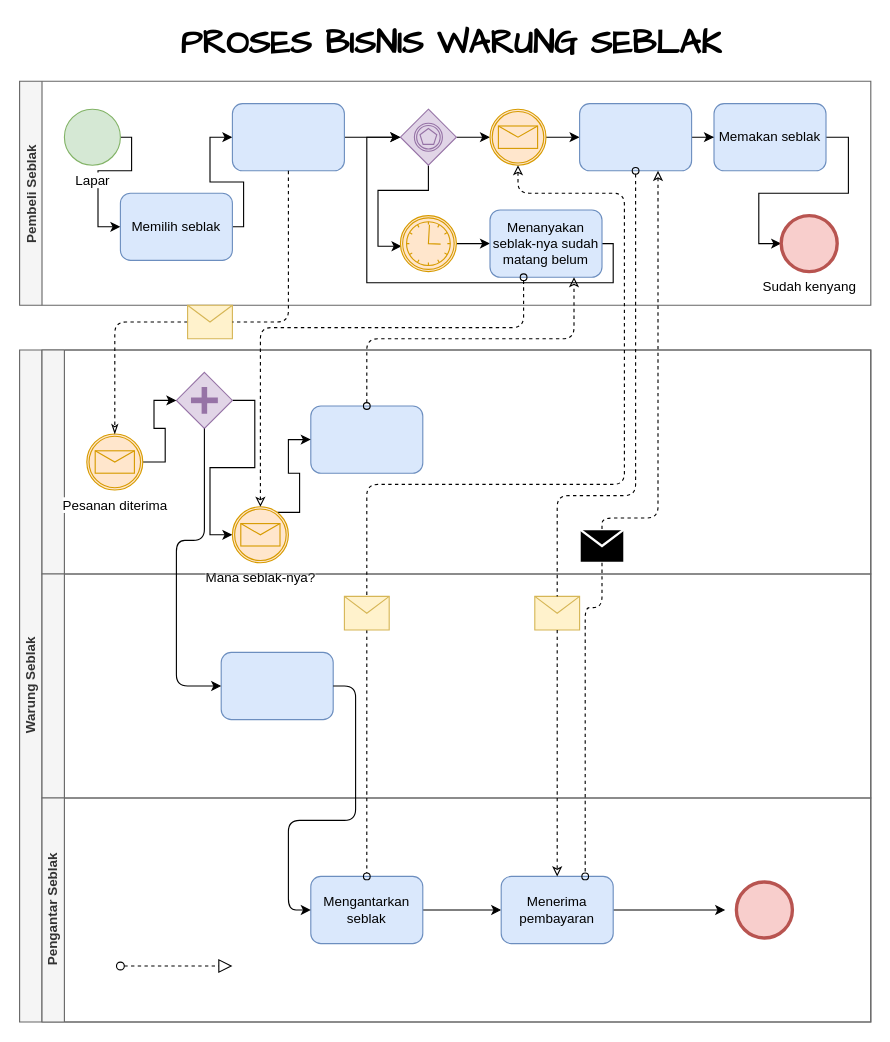
This 890x1042 diagram has some shape labels left out. Each missing label, with the box of its shape:
Koki Seblak: (41, 573, 871, 798)
Memasak seblak: (220, 651, 333, 720)
Membayar seblak: (578, 102, 692, 171)
Memesan seblak: (231, 102, 344, 171)
Menenangkan pembeli: (310, 405, 423, 473)
Pelayan: (41, 349, 871, 574)
